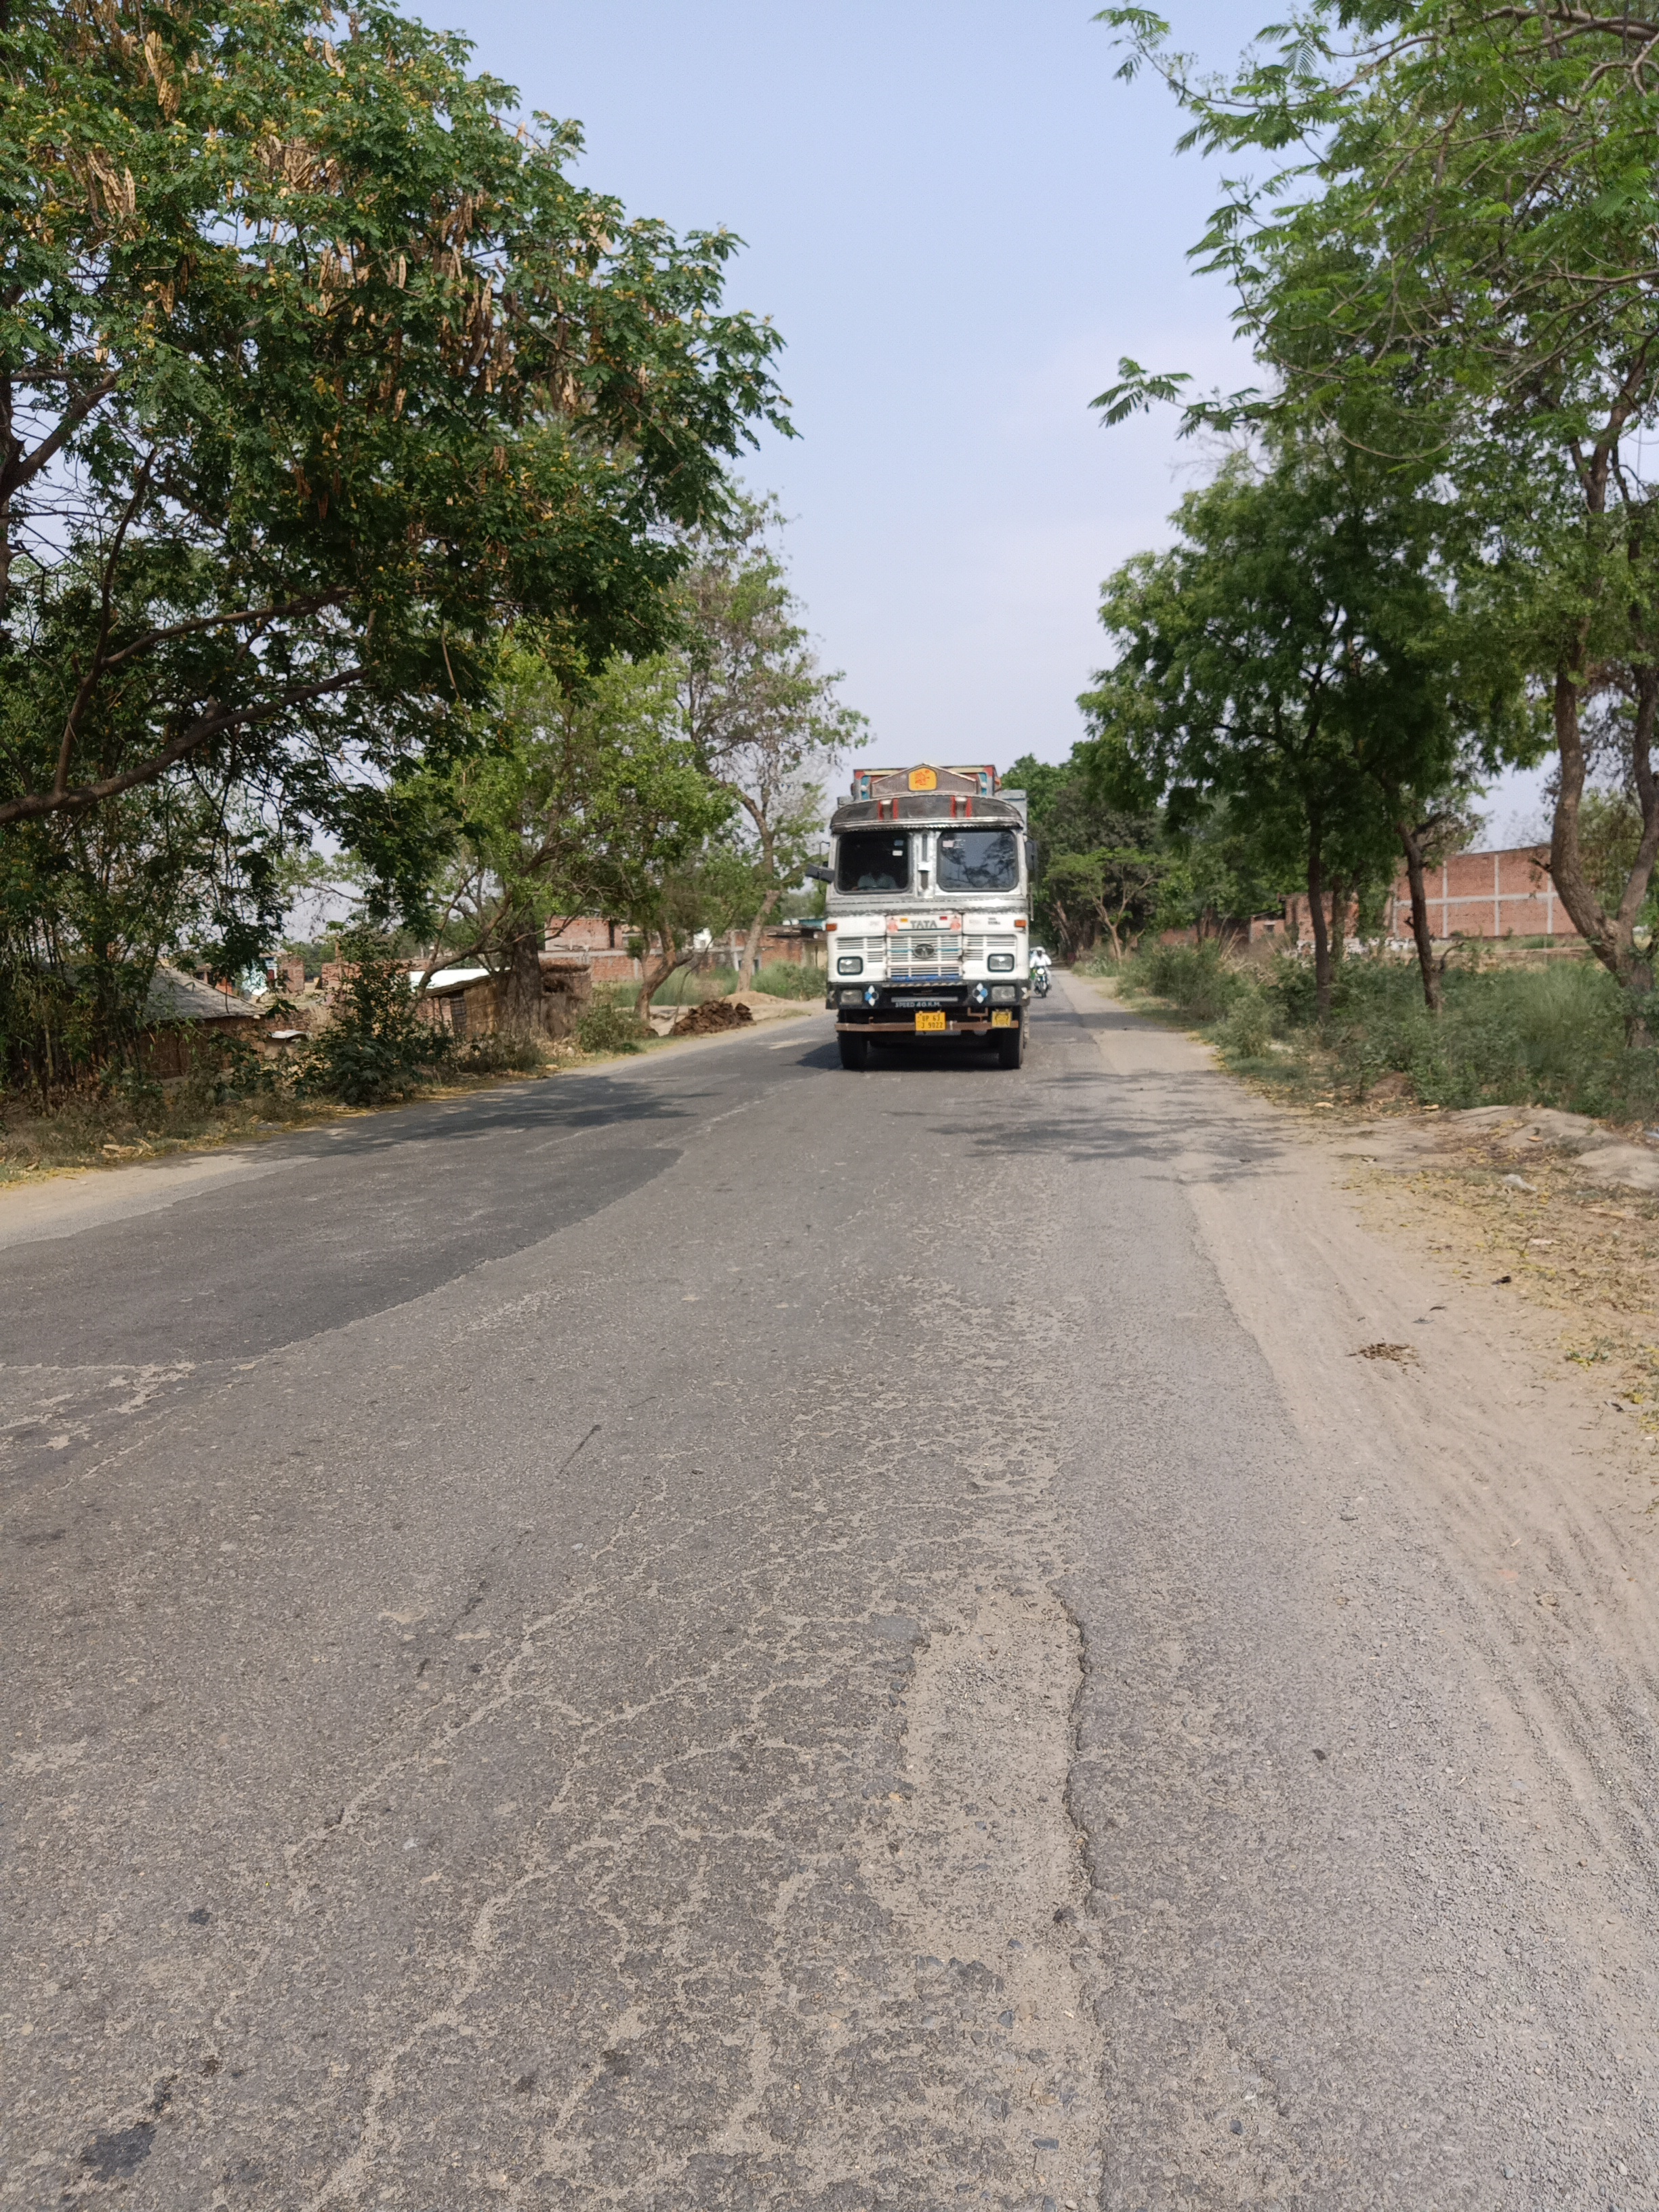truck: (802, 761, 1040, 1071)
